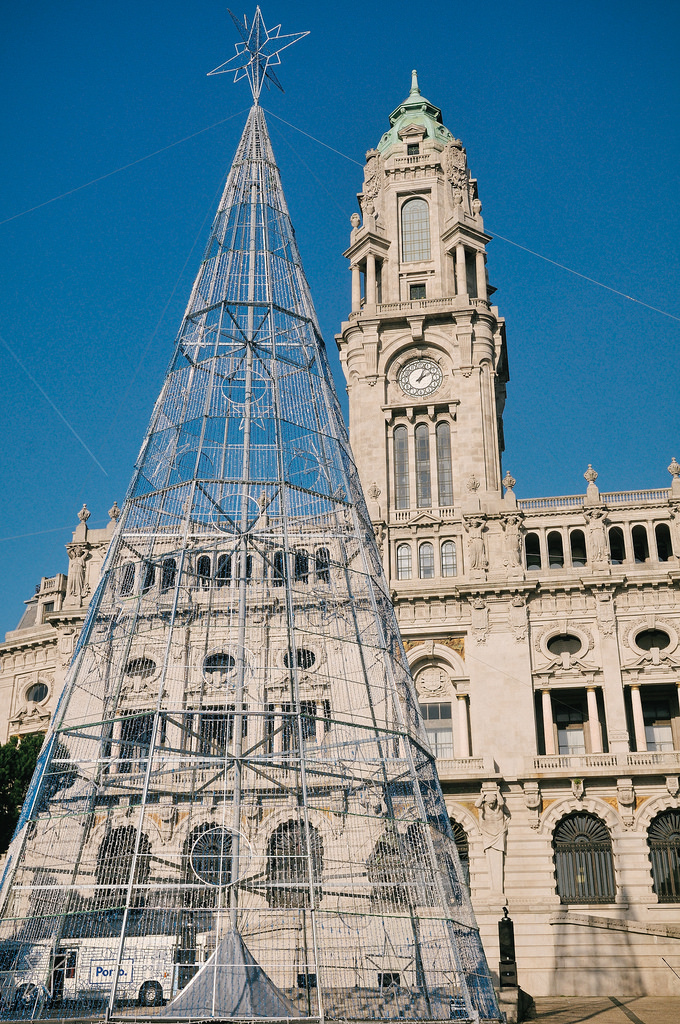camara: (0, 68, 679, 1023)
